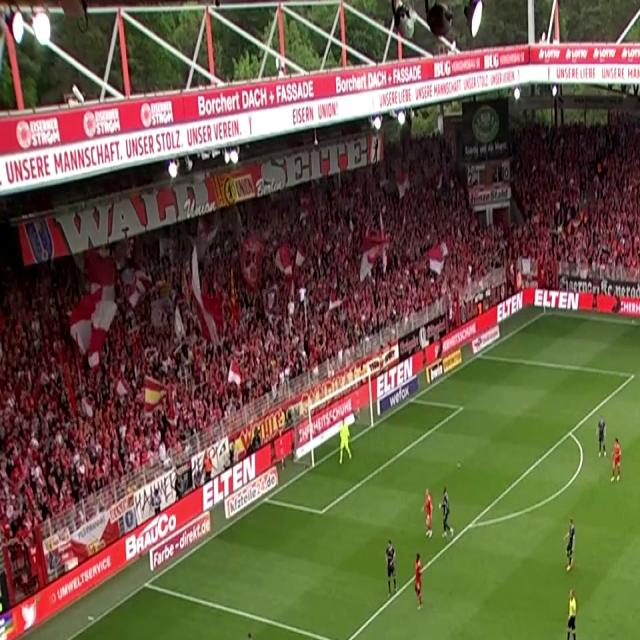goalkeeper: (334, 406, 360, 469)
referee: (561, 584, 584, 640)
soccer-player: (407, 552, 433, 618), (560, 516, 584, 578), (417, 480, 439, 540), (378, 537, 398, 601), (608, 433, 630, 488), (439, 481, 457, 543), (594, 412, 606, 458), (235, 629, 268, 640)
